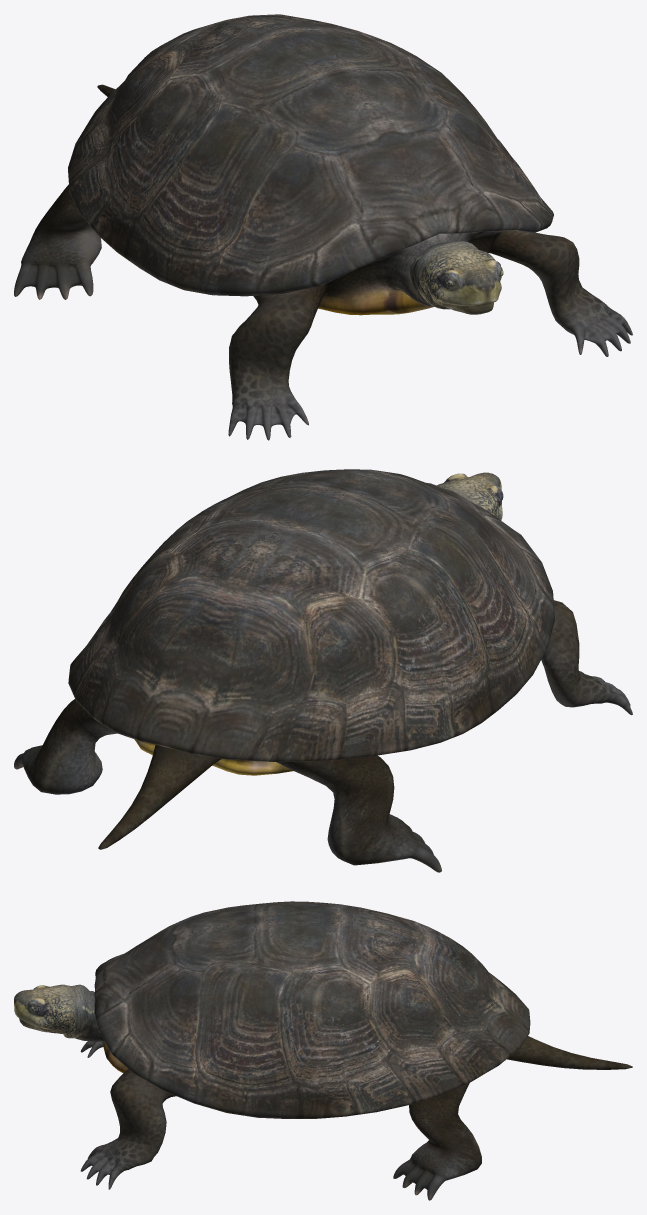
File: TortugaNegra.gltf
The picture shows the model from 3 angles, top to bottom: view 1: azimuth 30°, elevation 25°; view 2: azimuth 150°, elevation 25°; view 3: azimuth 270°, elevation 25°; orthographic projection. The views are drawn at different scales.
Visible parts, largest first — view 1: TortugaNegra; view 2: TortugaNegra; view 3: TortugaNegra.
Boxes of the visible parts, <box> form: TortugaNegra: <box>14,14,632,440</box>; TortugaNegra: <box>14,469,632,872</box>; TortugaNegra: <box>14,901,632,1200</box>.
Bounding box in the file's own units: 2.05 × 1.18 × 3.26.
1 material, 1 textured.
